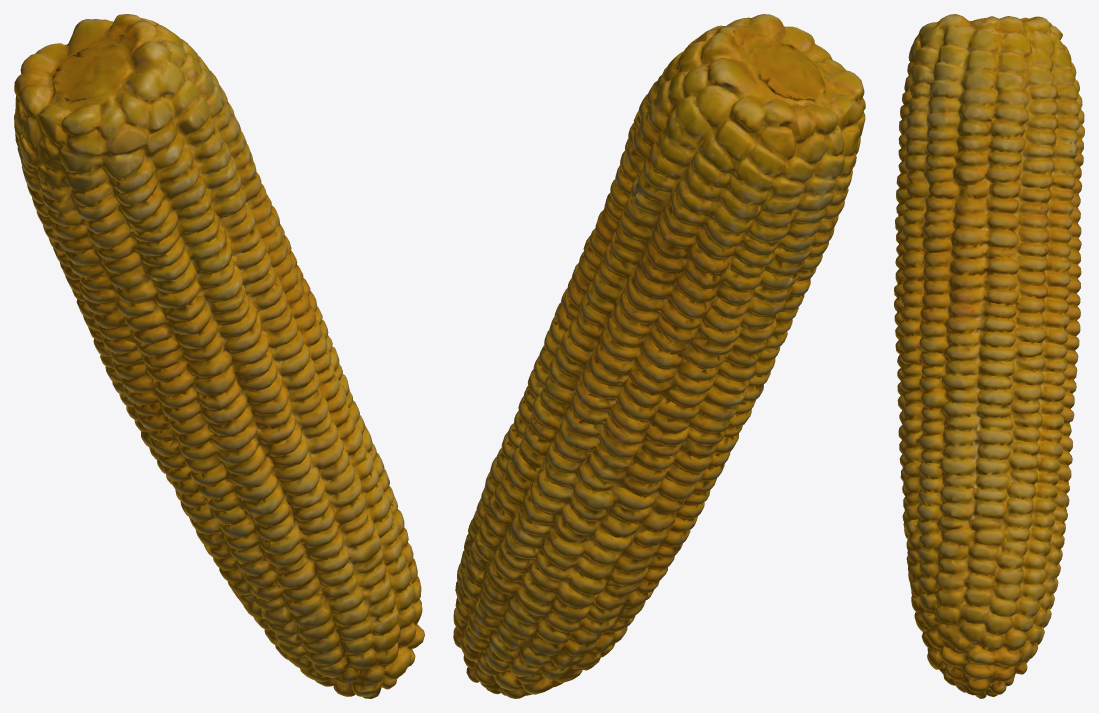
Rendered from corn.glb.
3 renders of one model, left to right at view 1: azimuth 30°, elevation 25°; view 2: azimuth 150°, elevation 25°; view 3: azimuth 270°, elevation 25°, orthographic. The views are drawn at different scales.
Parts seen in each view (by area): view 1: Object_2; view 2: Object_2; view 3: Object_2.
Boxes of the visible parts, x1,y1,x2,y2 form: Object_2: (14,14,424,698); Object_2: (453,14,865,698); Object_2: (894,14,1084,698).
Bounding box in the file's own units: 97.39 × 174 × 51.21.
1 material, 1 textured.
